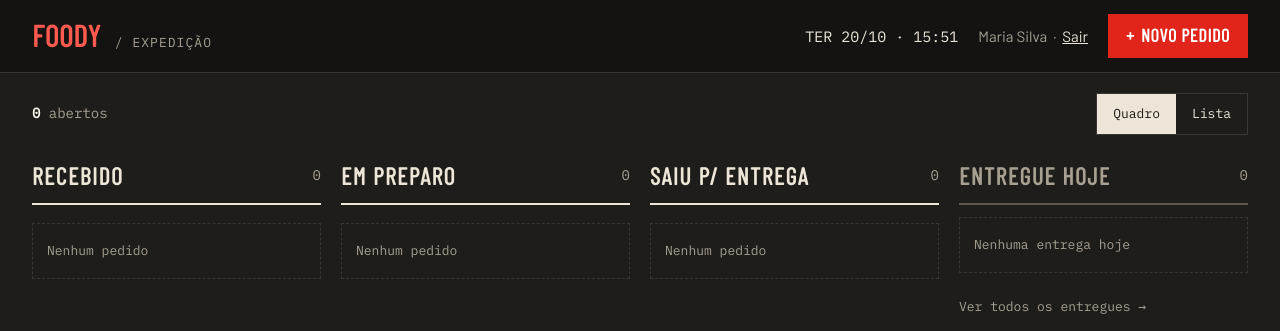
Scenario: OrdersPage list › switches between board and list
Click the button "Lista".
click(1212, 114)  # box 1176,94 -> 1247,134
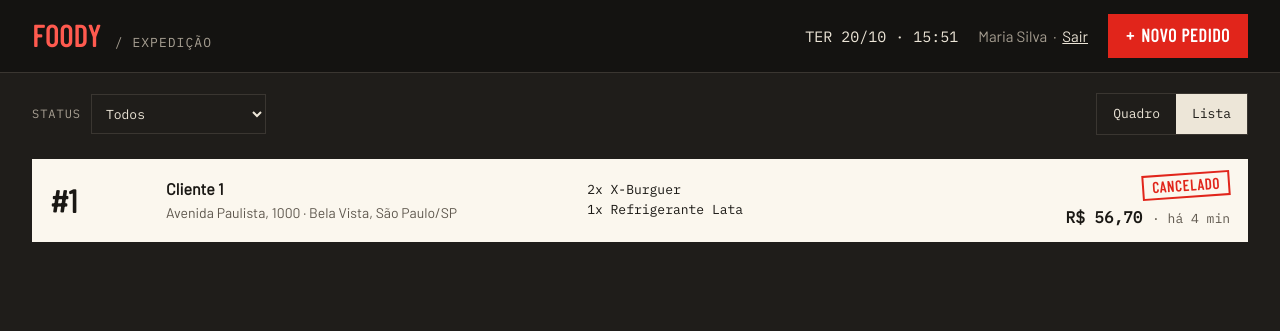
Check: the list item with aria-label "Pedido #1" is shown, box 32,159 -> 1248,242
